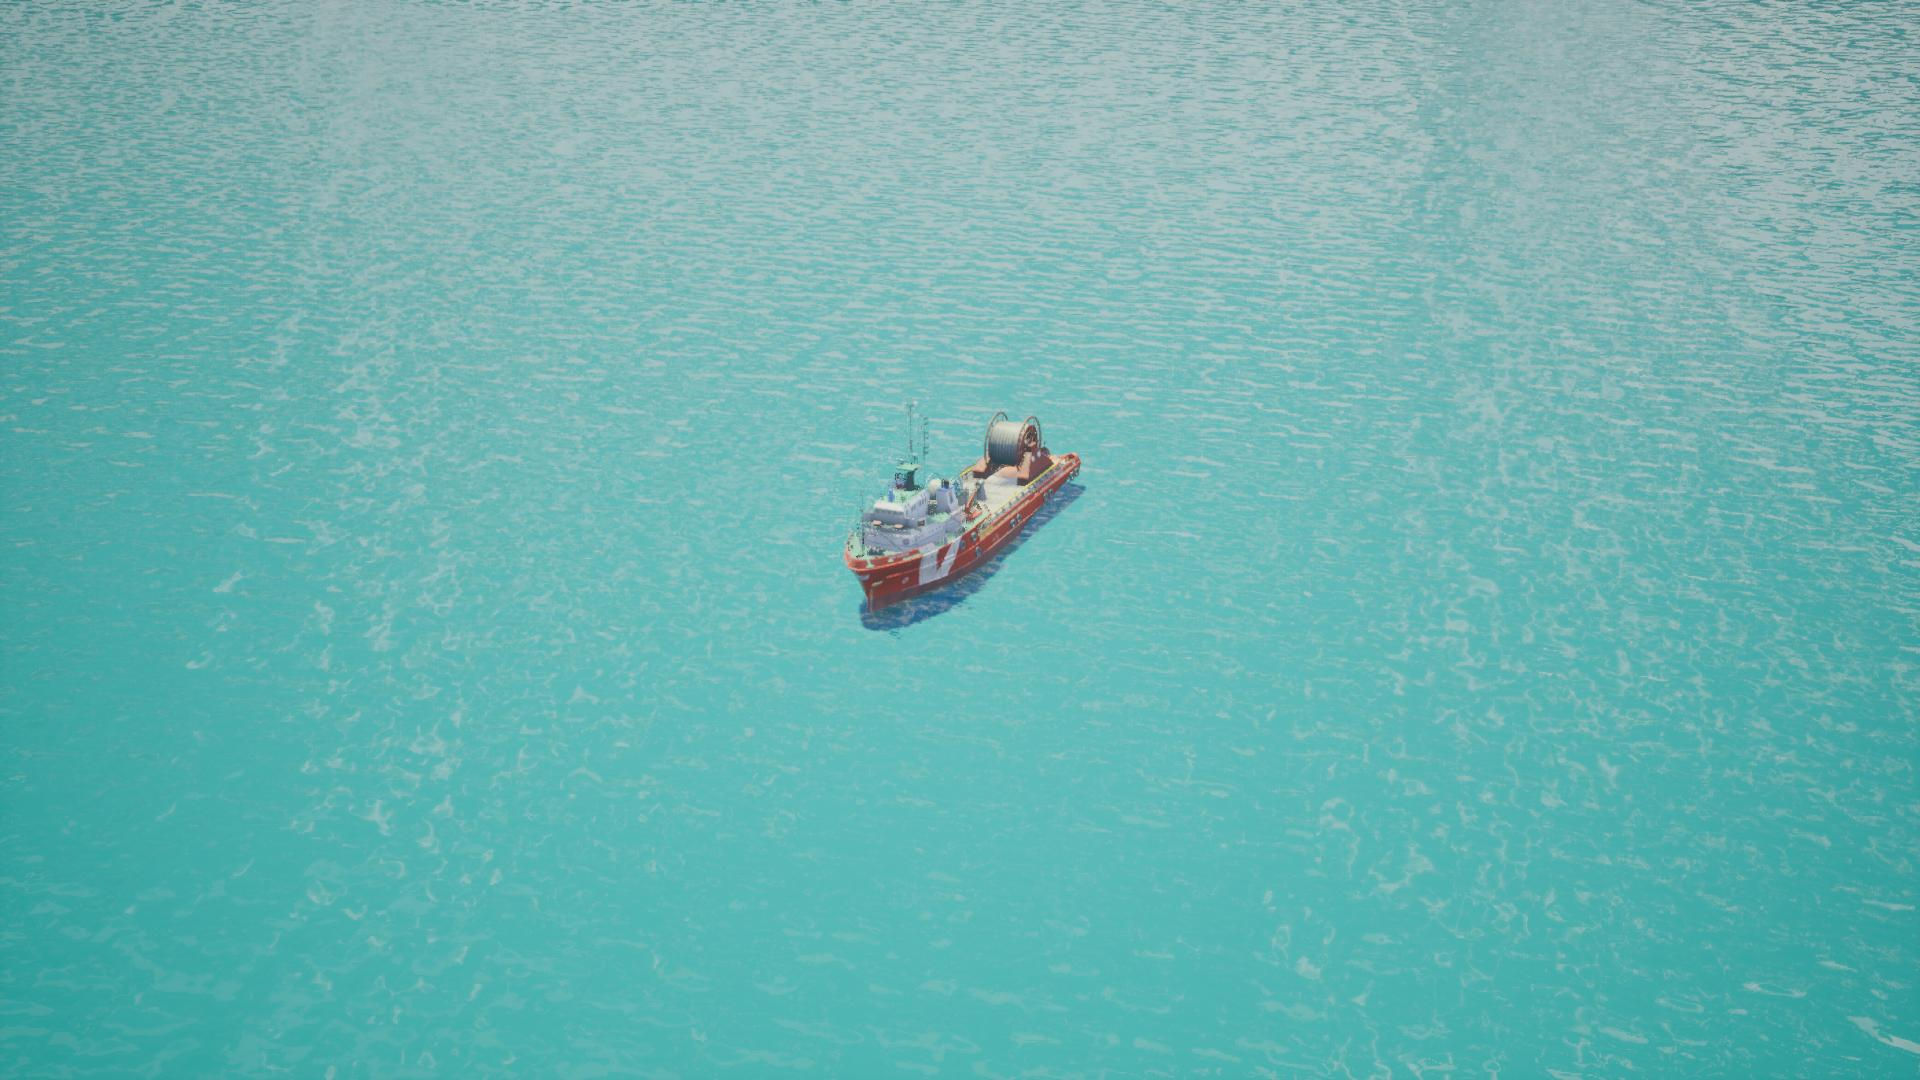Tug Boat: (846, 443, 1085, 635)
